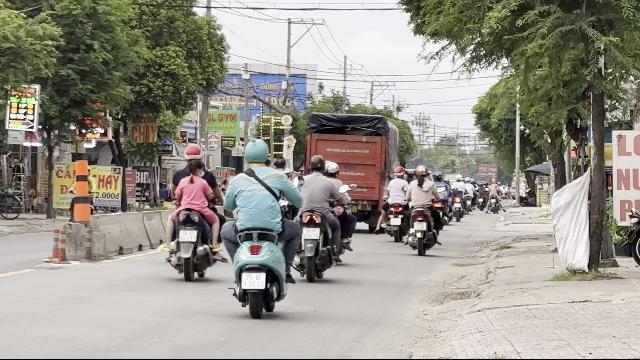helmet: (242, 138, 270, 166), (182, 143, 202, 163), (308, 154, 324, 172)
licenseplate: (242, 272, 266, 290), (302, 227, 320, 239), (180, 231, 197, 241)
motorcyclist: (219, 134, 301, 318), (162, 142, 222, 280), (296, 153, 354, 280)
nohelmet: (186, 160, 204, 176)
